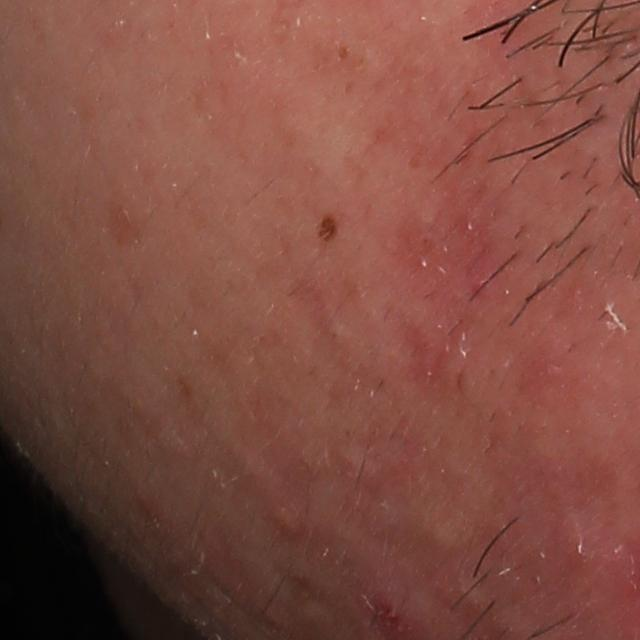nevus: (313, 208, 340, 248)
